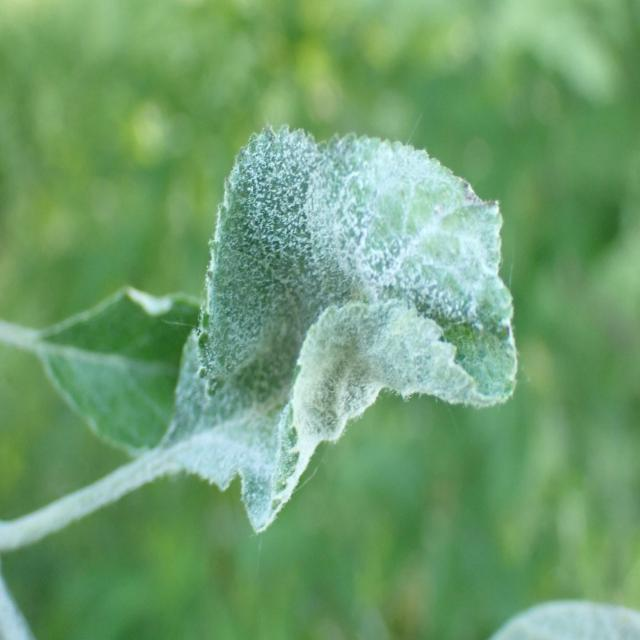Powdery_mildew: (65, 111, 526, 538), (456, 602, 640, 640)
